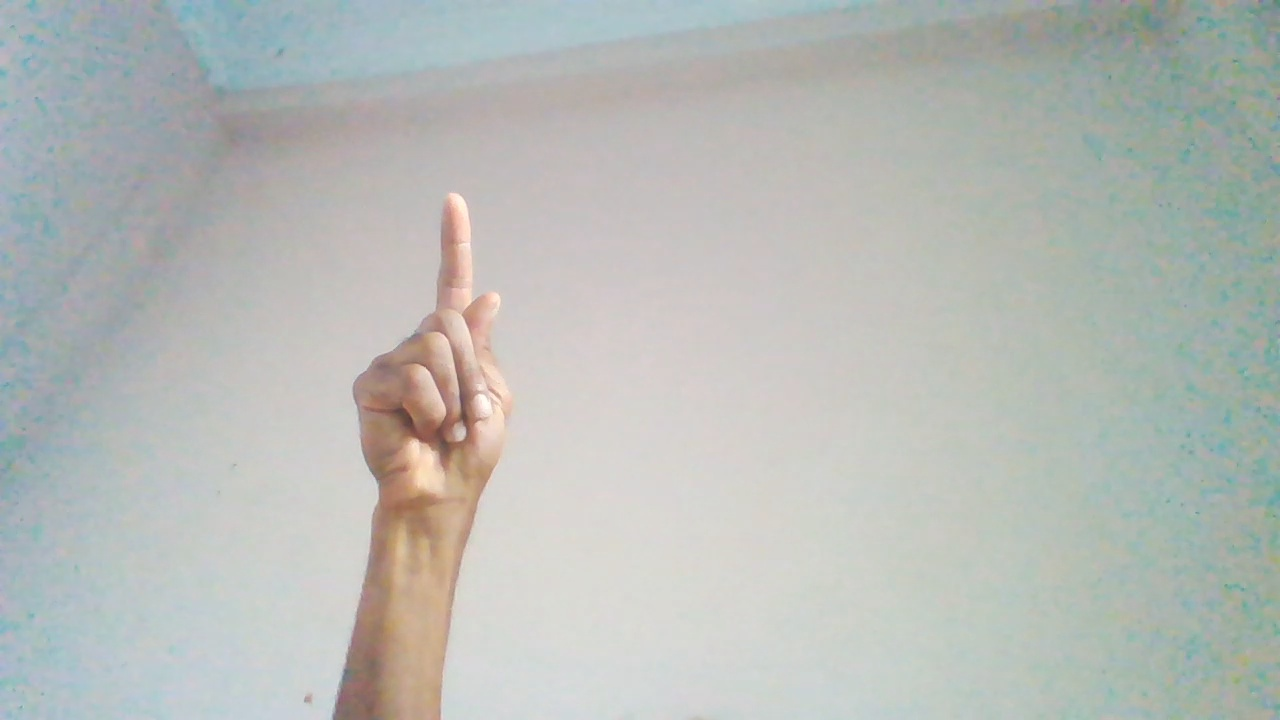ne: (351, 189, 512, 566)
